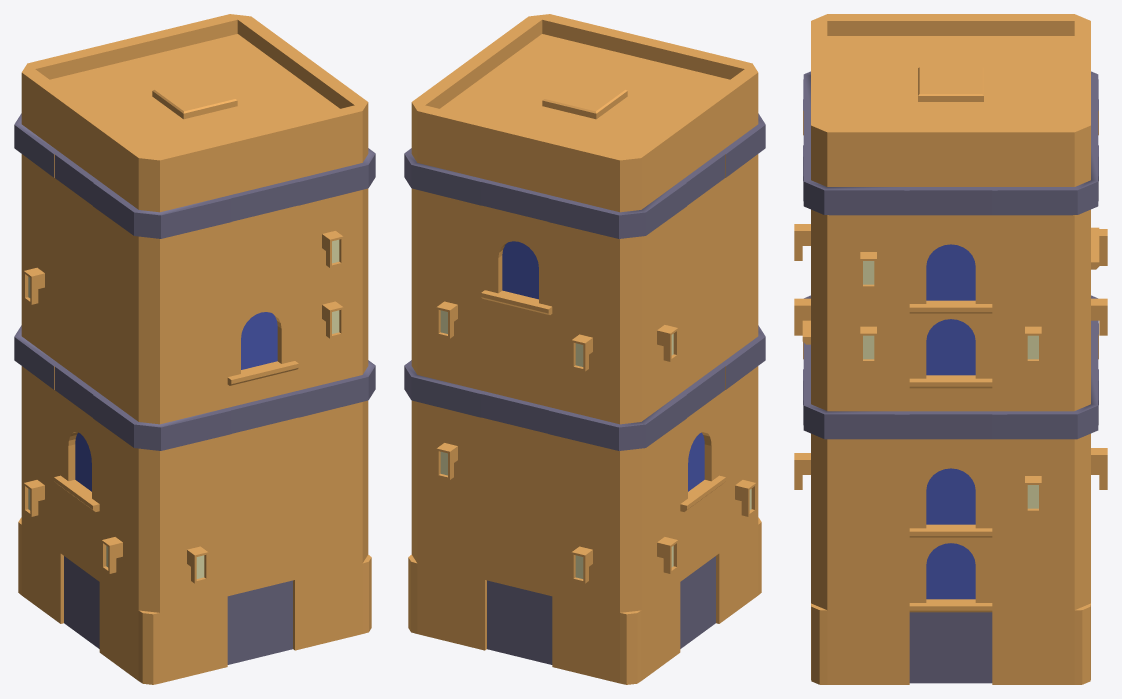
File: house.002.fbx
3 views of the same model, side by side, from view 1: azimuth 30°, elevation 25°; view 2: azimuth 150°, elevation 25°; view 3: azimuth 270°, elevation 25° (orthographic). The views are drawn at different scales.
Parts seen in each view (by area): view 1: House; view 2: House; view 3: House.
Boxes of the visible parts, x1,y1,x2,y2 form: House: [14, 14, 375, 684]; House: [404, 14, 765, 684]; House: [794, 14, 1107, 684].
Size of the model in its own units: 380 by 740 by 380.
